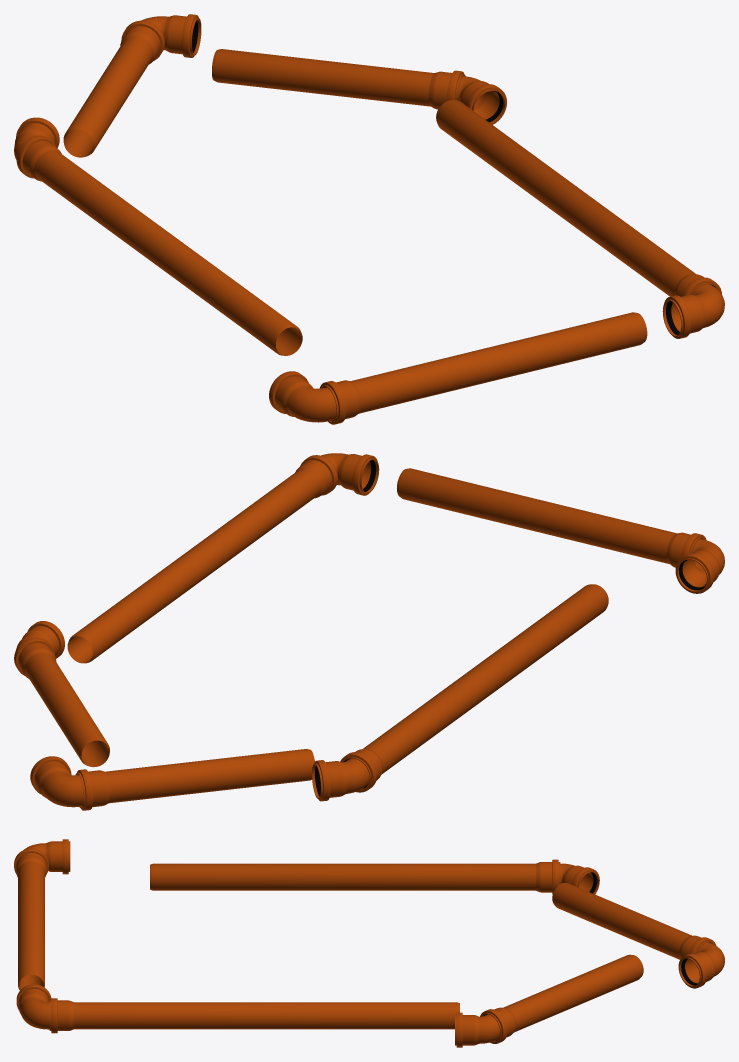
3 renders of one model, top to bottom at view 1: azimuth 30°, elevation 25°; view 2: azimuth 150°, elevation 25°; view 3: azimuth 270°, elevation 25°, orthographic. The views are drawn at different scales.
Visible parts, largest first — view 1: Окружность.018, Окружность.016, Окружность.010, Окружность.014, Окружность.012; view 2: Окружность.016, Окружность.010, Окружность.018, Окружность.012, Окружность.014; view 3: Окружность.016, Окружность.010, Окружность.014, Окружность.012, Окружность.018.
Boxes of the visible parts, <box> form: Окружность.018: <box>269,312,647,424</box>; Окружность.016: <box>436,100,724,338</box>; Окружность.010: <box>14,117,302,355</box>; Окружность.014: <box>212,49,506,124</box>; Окружность.012: <box>63,14,201,157</box>; Окружность.016: <box>67,453,379,663</box>; Окружность.010: <box>312,584,608,801</box>; Окружность.018: <box>397,468,724,593</box>; Окружность.012: <box>30,749,314,810</box>; Окружность.014: <box>14,621,109,767</box>; Окружность.016: <box>16,984,459,1033</box>; Окружность.010: <box>150,859,599,894</box>; Окружность.014: <box>455,954,643,1047</box>; Окружность.012: <box>552,883,724,988</box>; Окружность.018: <box>14,839,70,990</box>.
Bounding box in the file's own units: 1.84 × 0.1448 × 2.94.
Materials: 2 (1 with a texture image).
